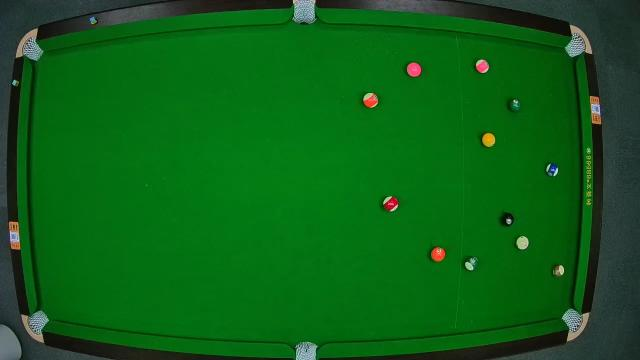bag1: (22, 38, 44, 60)
bag2: (291, 0, 317, 26)
bag3: (566, 29, 588, 57)
bag4: (29, 310, 49, 334)
bag5: (294, 340, 318, 360)
bag6: (563, 308, 585, 332)
ball0: (516, 236, 528, 250)
ball1: (481, 133, 495, 147)
ball10: (545, 163, 559, 177)
ball11: (382, 195, 398, 210)
ball12: (476, 58, 488, 74)
ball13: (364, 92, 380, 108)
ball14: (464, 256, 480, 272)
ball15: (552, 262, 566, 278)
ball4: (407, 62, 423, 78)
ball5: (431, 247, 445, 263)
ball6: (508, 98, 524, 112)
ball8: (500, 211, 514, 226)
